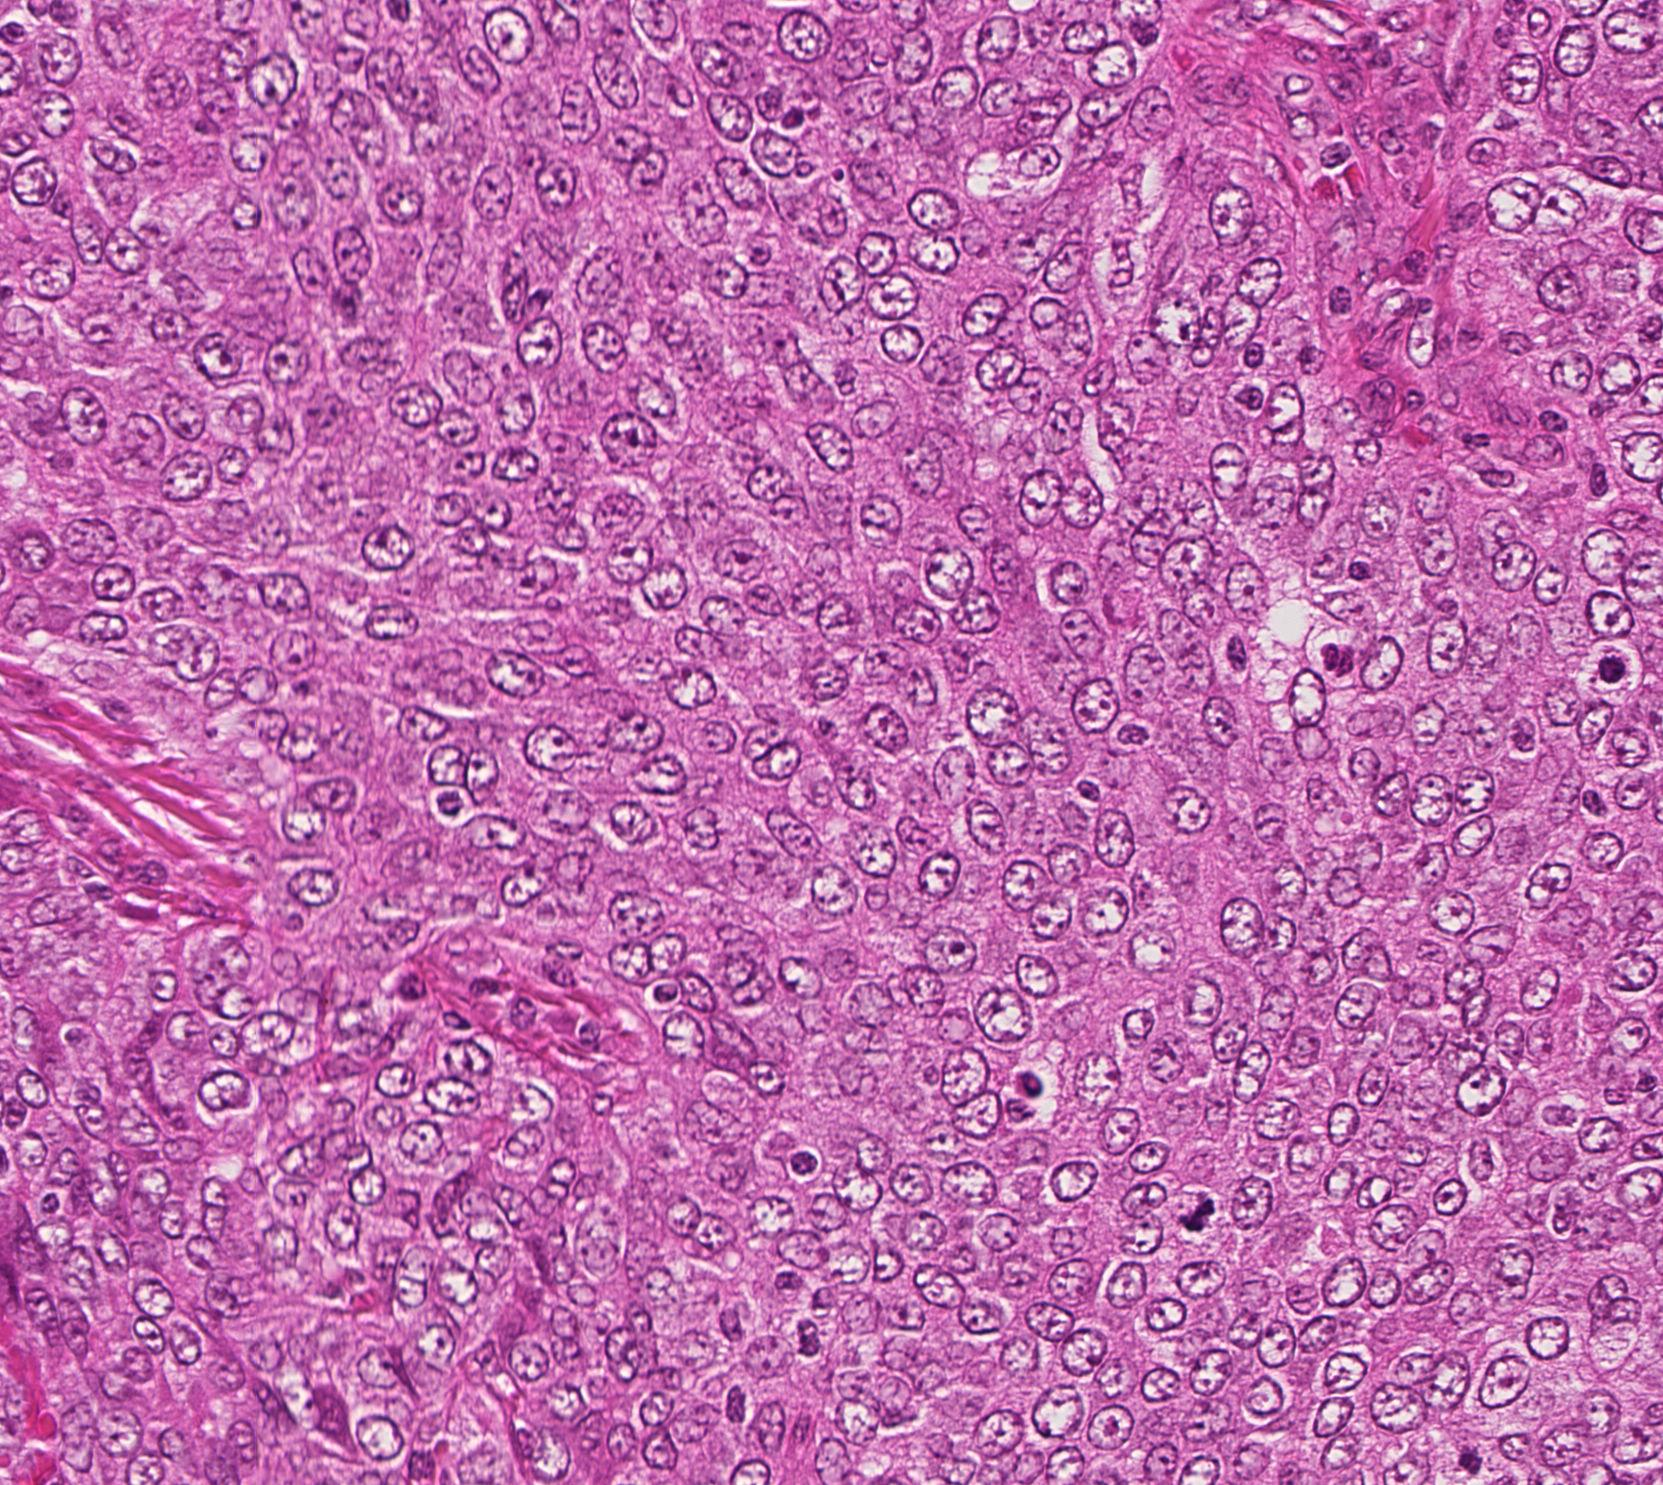mitosis: (1170, 1185, 1230, 1246)
